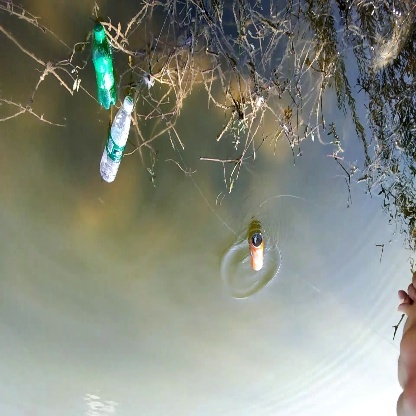bottle: (94, 96, 136, 188), (246, 233, 267, 274)
